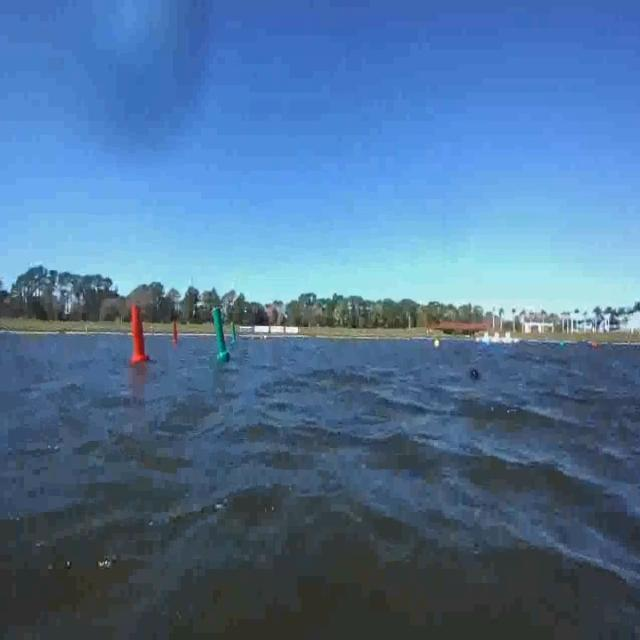black-buoy: (468, 364, 481, 386)
green-column-buoy: (212, 308, 230, 361), (233, 324, 238, 340)
red-column-buoy: (130, 303, 150, 364), (170, 312, 180, 353)
yellow-buoy: (433, 338, 441, 352)
